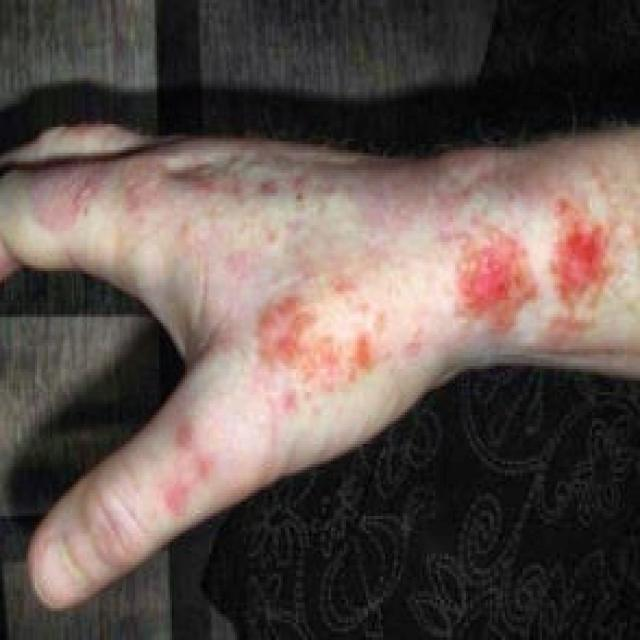Atopic-Dermatitis: (174, 169, 633, 416)
